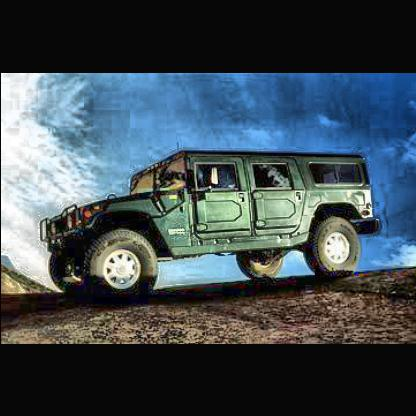AM General Hummer SUV 2000: (36, 148, 383, 302)
